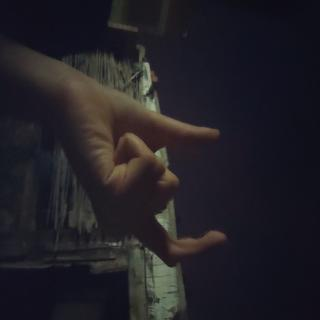NOON: (42, 123, 202, 320)
